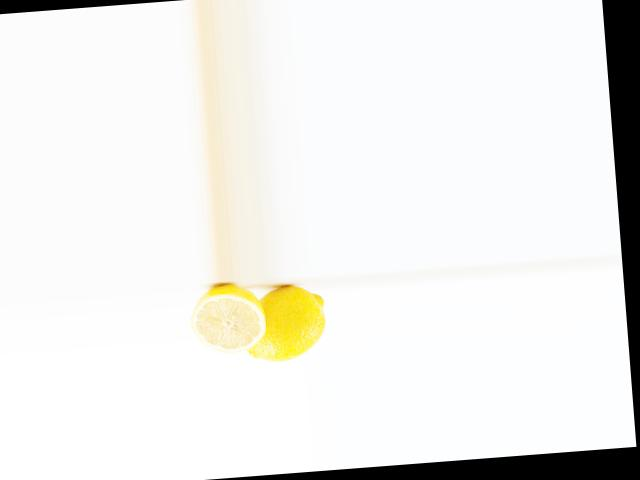lemon: (232, 275, 331, 362)
